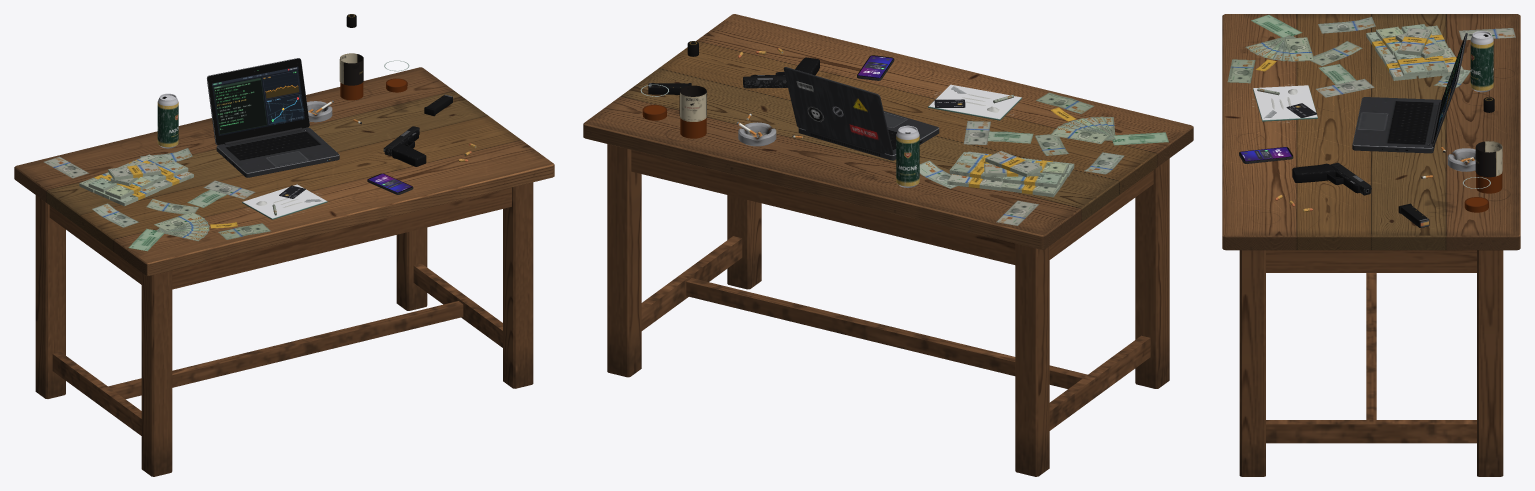
Rendered from pulse_crime_table_lod0.fbx.
3 views of the same model, side by side, from view 1: azimuth 30°, elevation 25°; view 2: azimuth 150°, elevation 25°; view 3: azimuth 270°, elevation 25° (orthographic). The views are drawn at different scales.
Visible parts, largest first — view 1: pulse_crime_table_lod0; view 2: pulse_crime_table_lod0; view 3: pulse_crime_table_lod0.
Part boxes in pixels (x1,y1,x2,y2): pulse_crime_table_lod0: [14, 14, 554, 476]; pulse_crime_table_lod0: [583, 14, 1193, 476]; pulse_crime_table_lod0: [1222, 14, 1520, 476].
Size of the model in its own units: 1.5 by 0.85 by 1.07.
3 materials, 3 textured.
